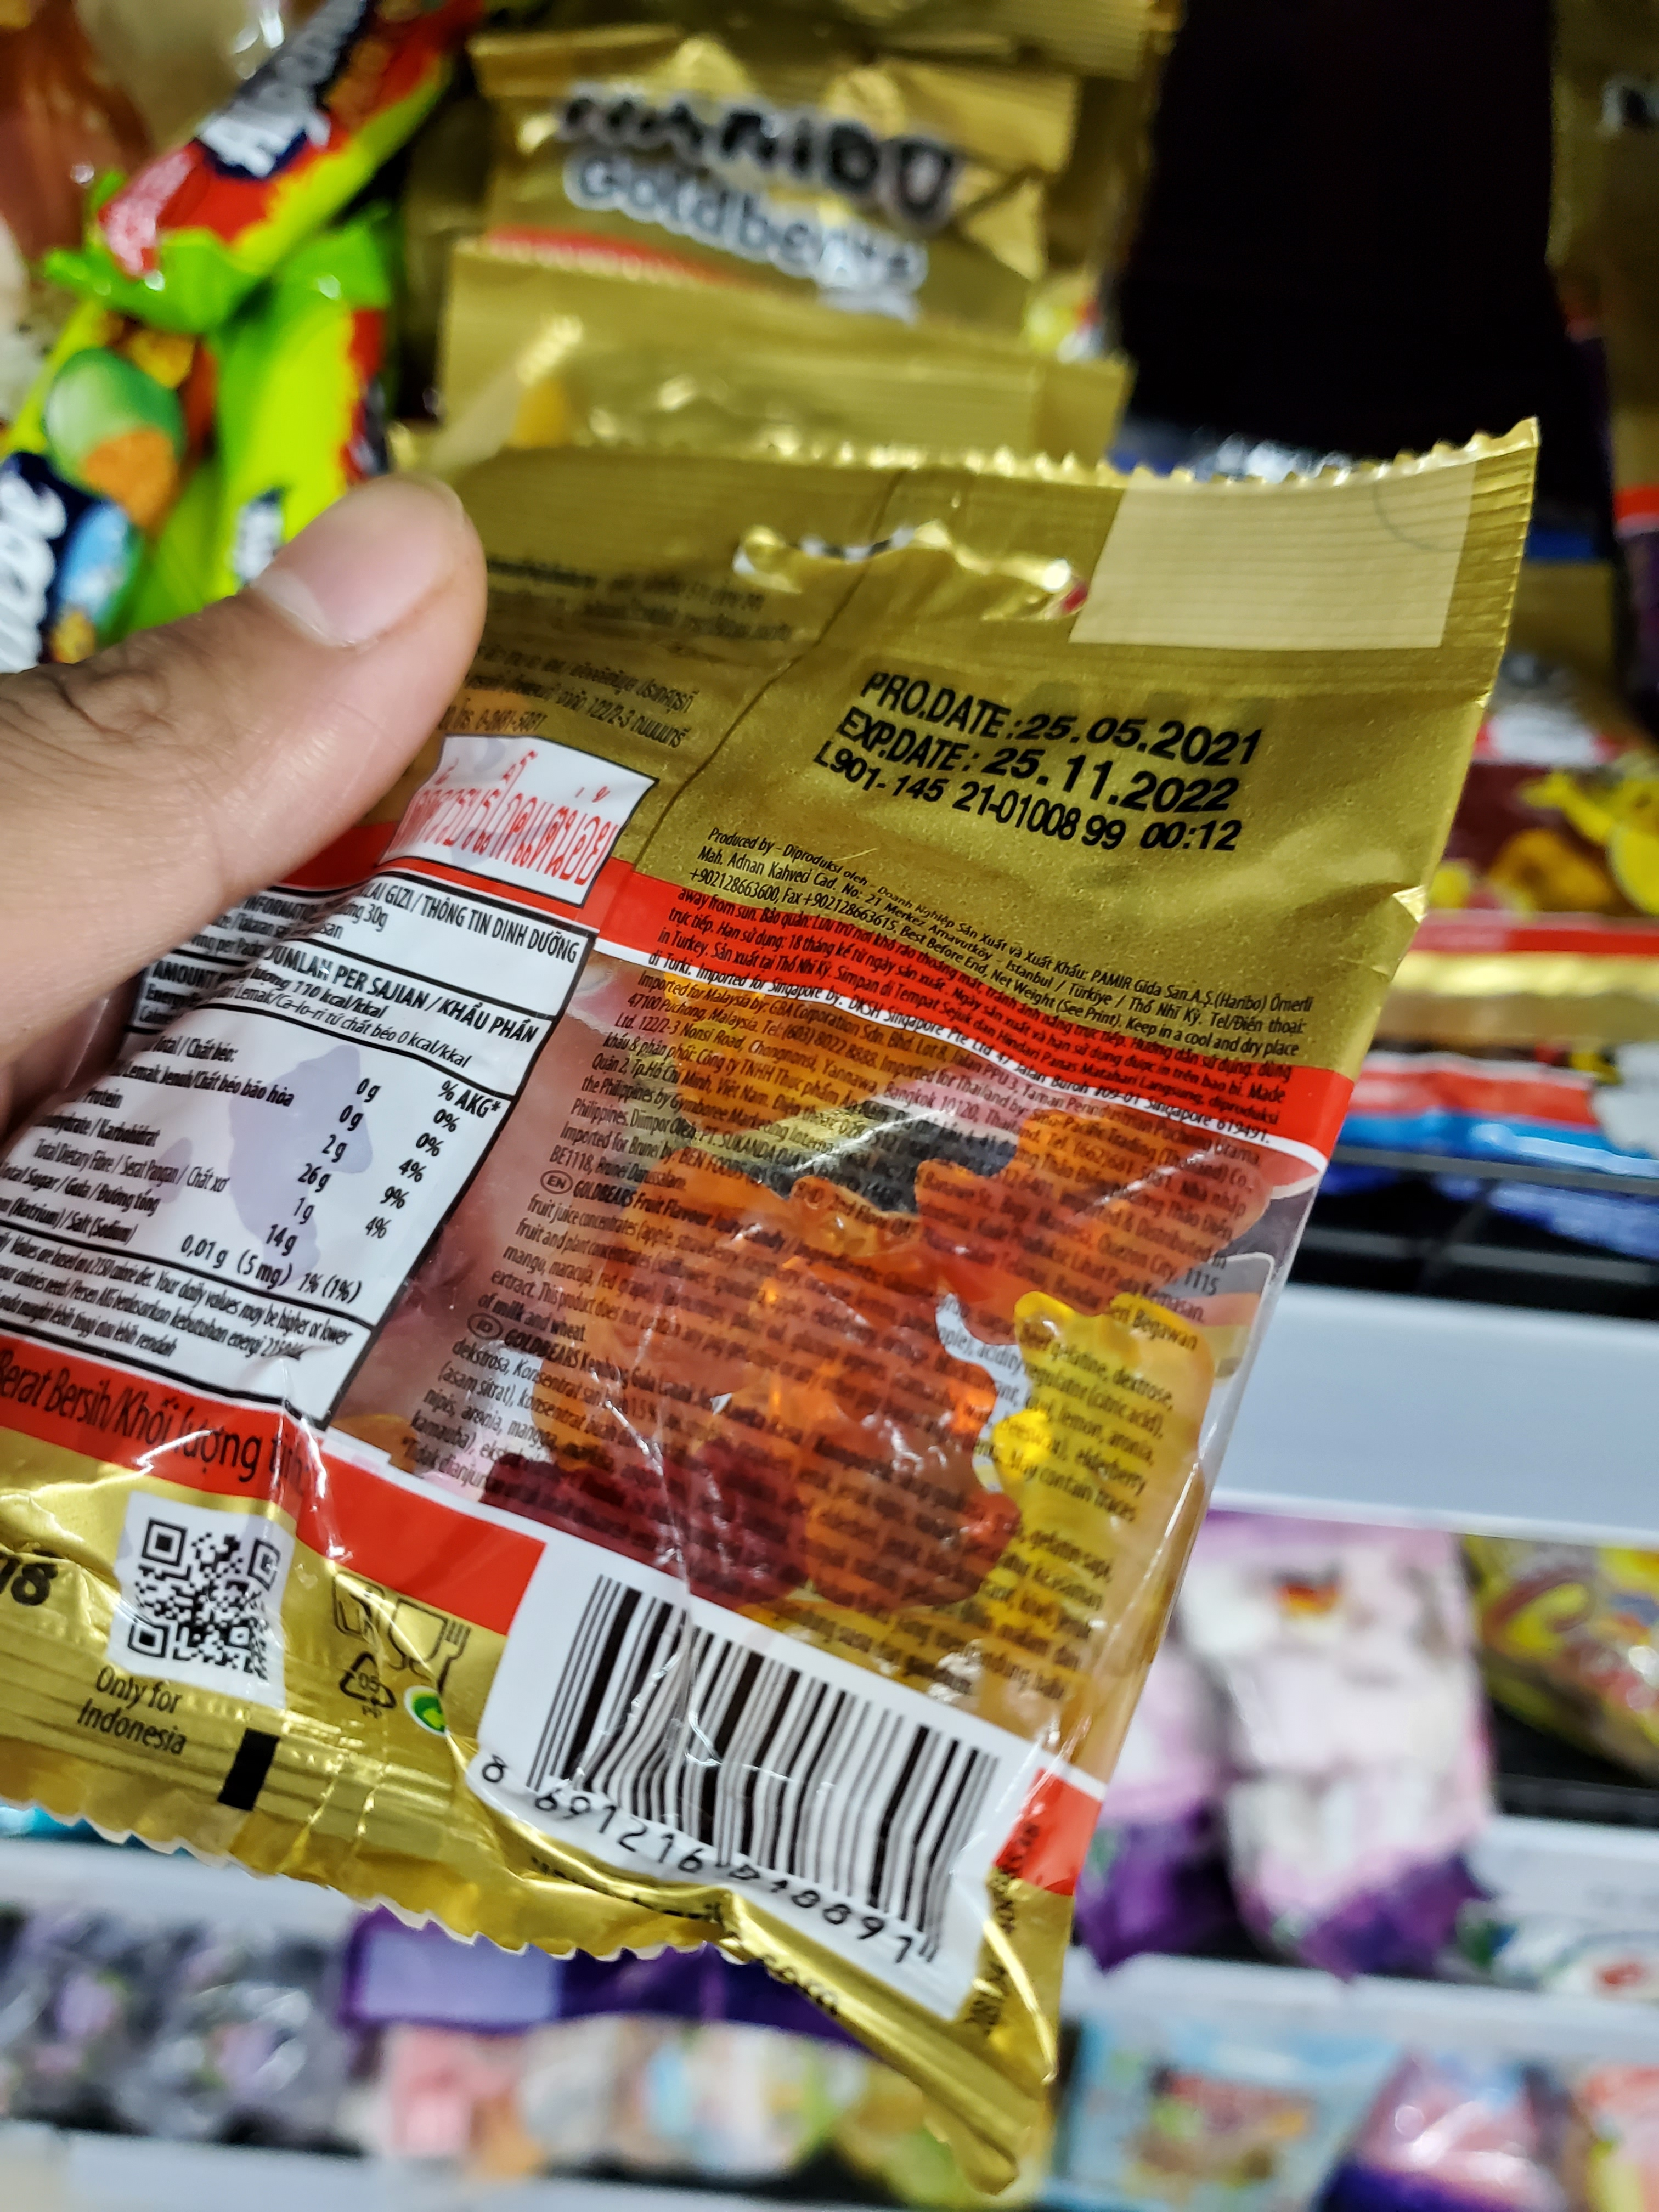BARCODE: (446, 1568, 1016, 1994)
QR CODE: (105, 1503, 291, 1698)
